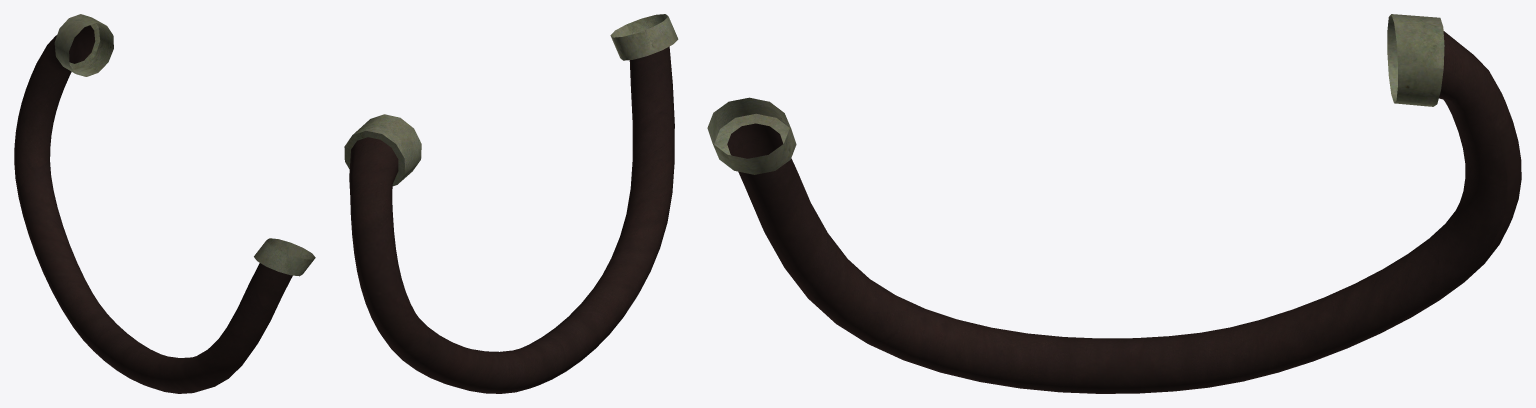
File: Cable05.fbx
The picture shows the model from 3 angles, left to right: view 1: azimuth 30°, elevation 25°; view 2: azimuth 150°, elevation 25°; view 3: azimuth 270°, elevation 25°; orthographic projection. The views are drawn at different scales.
Visible parts, largest first — view 1: Cab05; view 2: Cab05; view 3: Cab05.
Boxes of the visible parts, box(x1,y1,x2,y2) form: Cab05: box(14, 14, 315, 393); Cab05: box(344, 14, 678, 393); Cab05: box(707, 14, 1521, 393).
Bounding box in the file's own units: 11.56 × 30.43 × 53.99.
